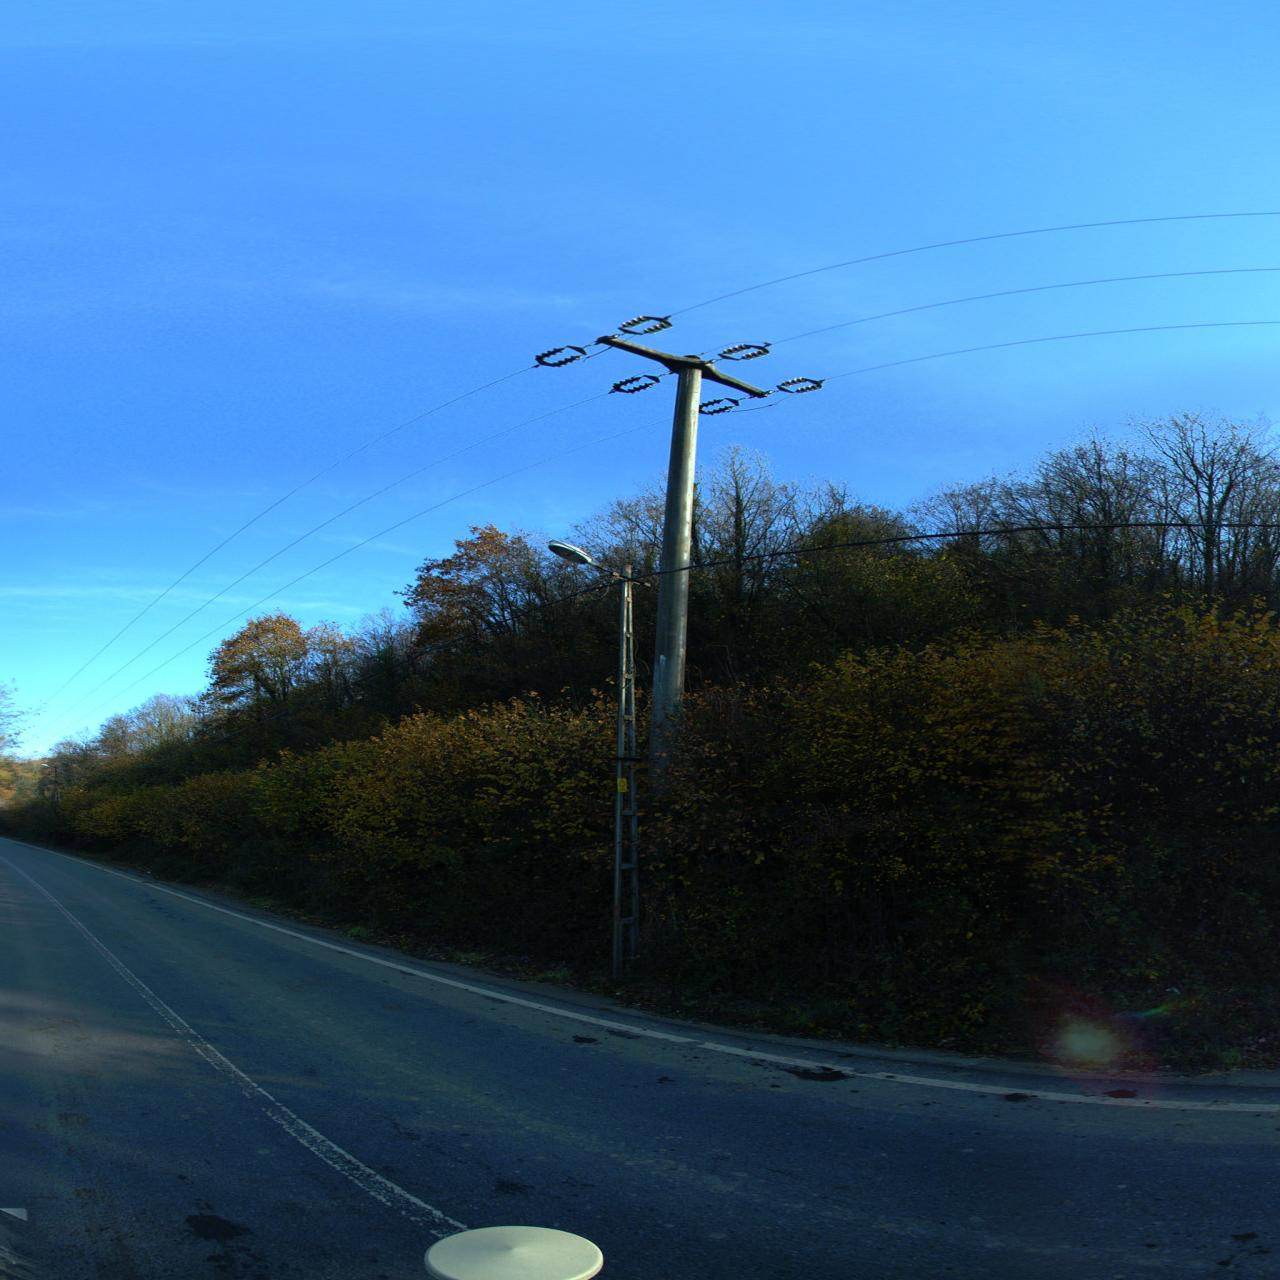Utility Pole Information Plate: (617, 778, 627, 792)
